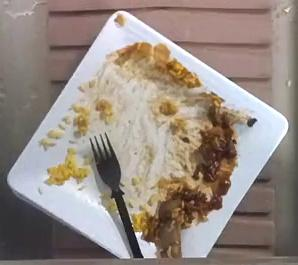rice: (47, 147, 87, 182)
